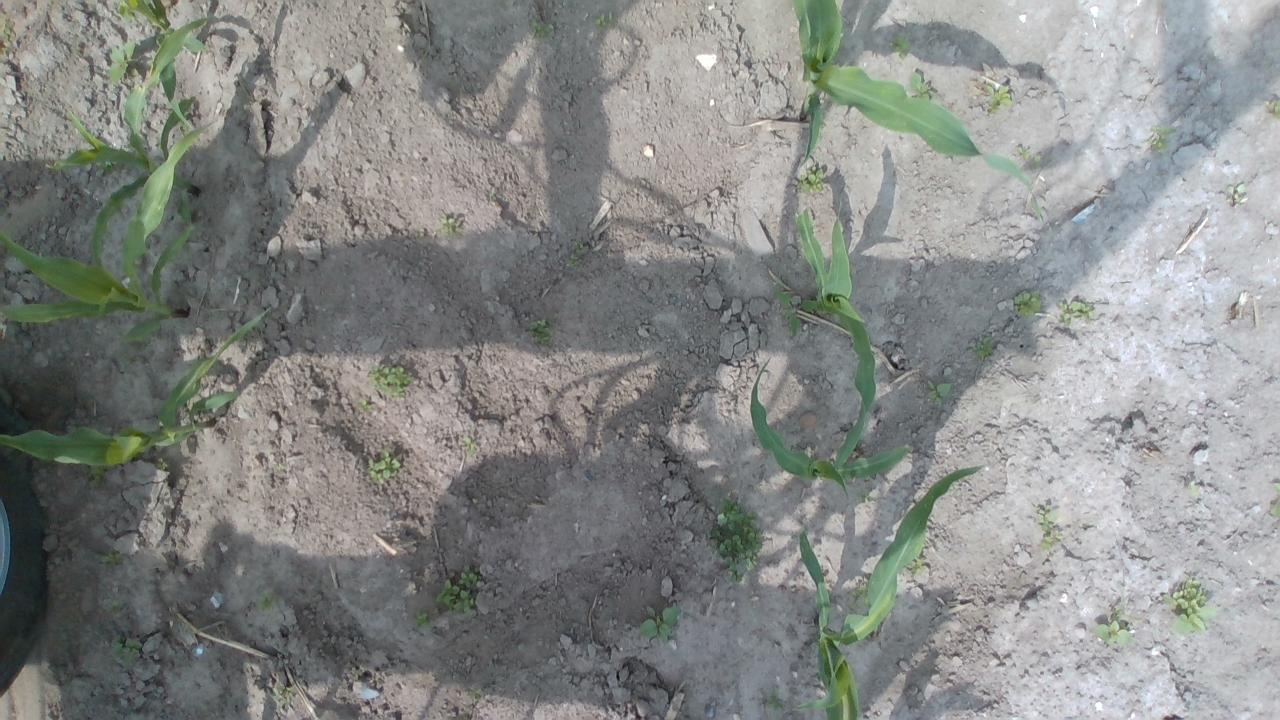Maize: (792, 0, 1046, 226), (790, 464, 990, 720), (0, 119, 208, 344), (0, 307, 272, 468), (46, 13, 208, 265), (749, 356, 911, 500), (796, 209, 876, 470), (123, 0, 205, 125)
Weeds: (711, 496, 764, 584), (1160, 572, 1208, 636), (771, 288, 824, 336), (434, 564, 482, 616), (1092, 606, 1132, 646), (637, 604, 679, 642), (1034, 504, 1064, 551), (108, 40, 140, 84), (368, 365, 412, 397), (366, 450, 400, 484), (1056, 298, 1094, 326), (112, 634, 142, 667), (1013, 288, 1043, 318), (909, 72, 938, 103), (985, 84, 1012, 115), (794, 166, 824, 193), (528, 314, 554, 344), (1149, 124, 1175, 153), (926, 378, 952, 406), (270, 684, 294, 708), (971, 336, 994, 359), (87, 464, 107, 490), (567, 242, 587, 268), (257, 590, 279, 613), (891, 36, 912, 60), (850, 583, 870, 608), (116, 0, 138, 22), (436, 216, 460, 236), (766, 686, 784, 712), (1268, 480, 1280, 517), (100, 548, 126, 565), (530, 18, 553, 37), (593, 12, 617, 30), (411, 610, 431, 631), (95, 161, 122, 175), (0, 18, 17, 40), (1266, 99, 1280, 120), (462, 436, 475, 456), (910, 556, 924, 574), (105, 600, 123, 614), (356, 398, 372, 412), (1028, 154, 1042, 169), (1016, 146, 1030, 160), (156, 456, 170, 470), (856, 490, 872, 502), (120, 354, 136, 366), (1, 44, 12, 57), (470, 688, 481, 700)
